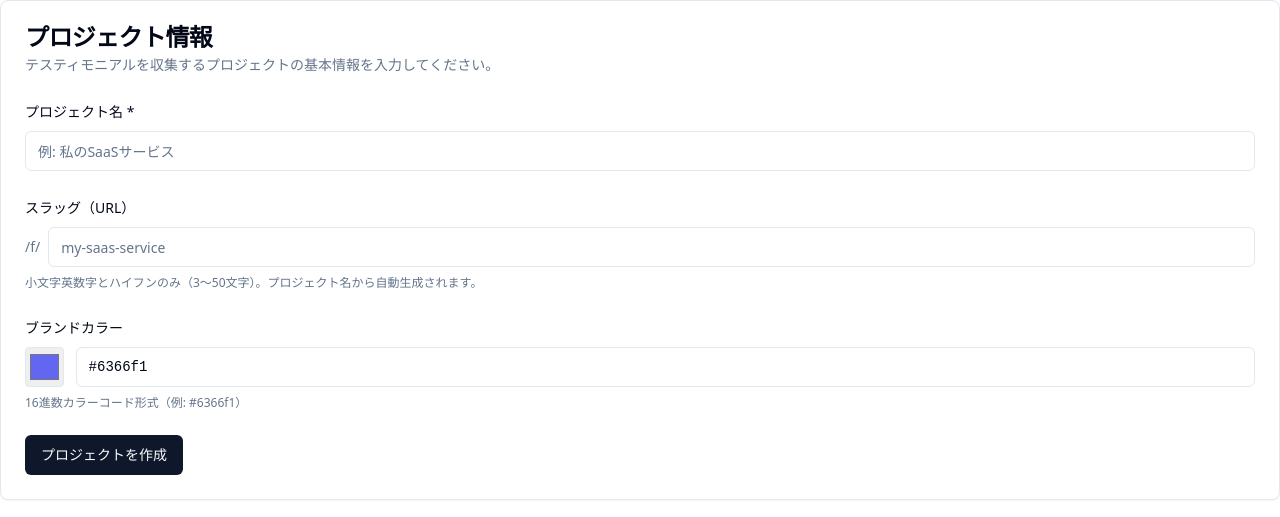
Scenario: ProjectCreateForm › ブランドカラー同期 › カラーピッカーでブランドカラーが変わる
Type "#00ff00" into the colour field named "カラーピッカー" at (44, 367), box [25,347,64,387]
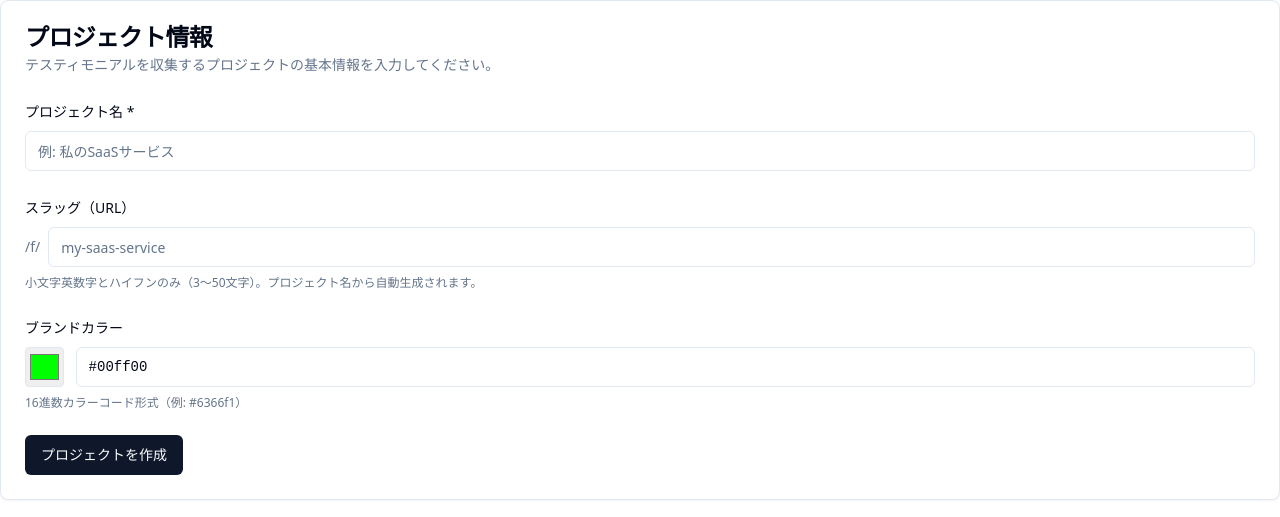
Check: the field labelled "ブランドカラー" holds "#00ff00", box [76,347,1255,387]
